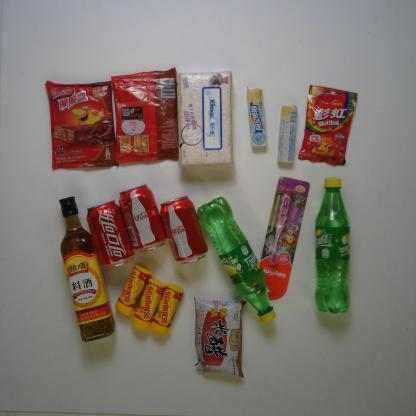Candy: (296, 82, 360, 167), (111, 262, 152, 320), (128, 276, 166, 333), (148, 282, 186, 336), (273, 104, 300, 167), (245, 82, 268, 151)
Dessert: (107, 67, 184, 166), (43, 79, 120, 172)
Drink: (194, 194, 277, 326), (309, 176, 356, 316), (118, 180, 170, 256), (84, 197, 137, 270), (158, 195, 208, 266)
Personal Hygiene: (261, 174, 314, 302)
Seasoner: (57, 193, 121, 345), (189, 294, 252, 380)
Tissue: (172, 68, 236, 168)
